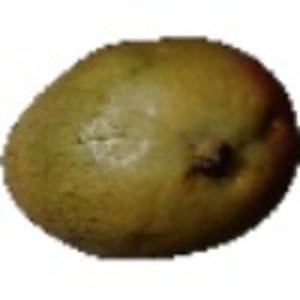mamão: (2, 36, 295, 267)
